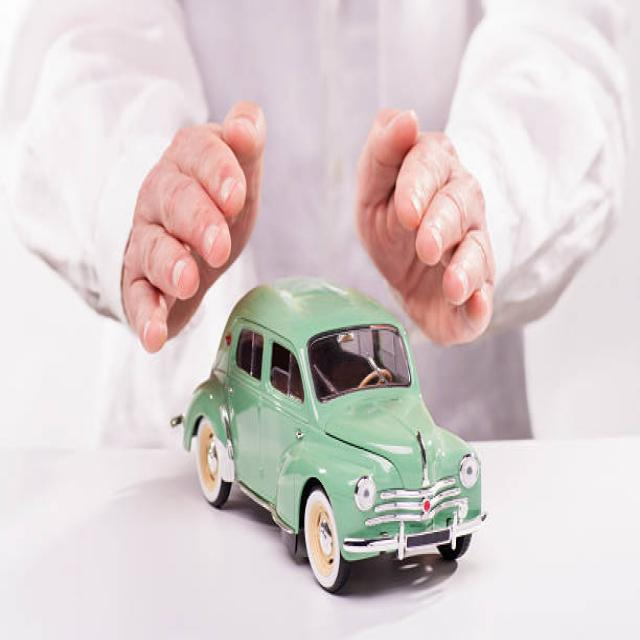Car: (169, 274, 486, 593)
